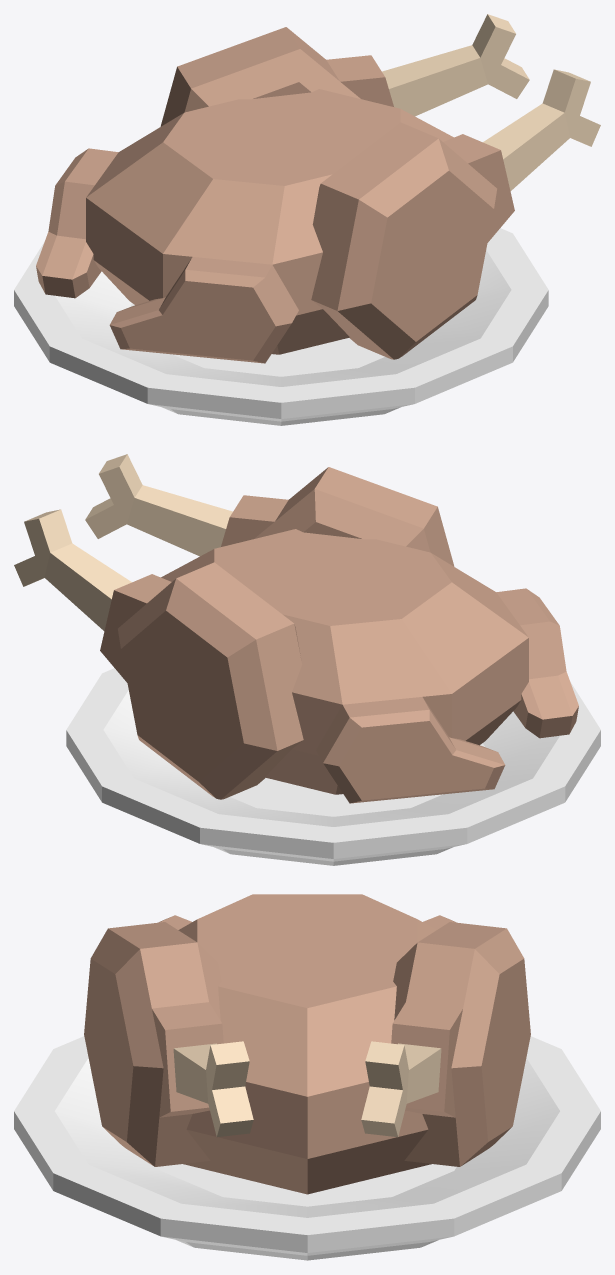
The model's file is asset.glb.
The picture shows the model from 3 angles, top to bottom: view 1: azimuth 30°, elevation 25°; view 2: azimuth 150°, elevation 25°; view 3: azimuth 270°, elevation 25°; orthographic projection. The views are drawn at different scales.
Parts seen in each view (by area): view 1: turkey, leg_1, plate, leg; view 2: turkey, leg, plate, leg_1; view 3: plate, turkey, leg, leg_1.
Boxes of the visible parts, x1,y1,x2,y2 form: turkey: (36,89,453,363); leg_1: (311,69,600,359); plate: (14,228,548,425); leg: (160,14,529,126); turkey: (161,529,578,803); leg: (14,509,303,799); plate: (66,668,600,865); leg_1: (85,454,454,566); plate: (14,1036,600,1260); turkey: (158,894,456,1194); leg: (361,922,530,1166); leg_1: (84,922,253,1166).
Size of the model in its own units: 98.52 by 43.49 by 89.18.
